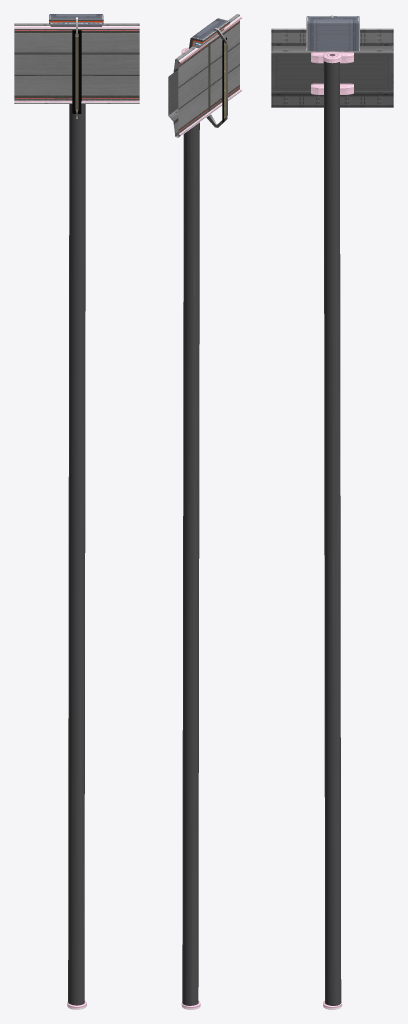
File: T34 - Magnetic.fbx
The picture shows the model from 3 angles, left to right: view 1: azimuth 90°, elevation 25°; view 2: azimuth 150°, elevation 25°; view 3: azimuth 270°, elevation 25°; orthographic projection. The views are drawn at different scales.
Visible parts, largest first — view 1: support_pylon, straight_road13, lookout, wall, light_bloom_night, magnetic_road_lines, cage, standard_bridge5; view 2: support_pylon, straight_road13, standard_bridge5, lookout, wall, cage, magnetic_road_lines; view 3: support_pylon, standard_bridge5, lookout, support_hinge_base.
Boxes of the visible parts, x1,y1,x2,y2 form: support_pylon: [68, 104, 85, 1005]; straight_road13: [14, 29, 139, 100]; lookout: [49, 14, 103, 26]; wall: [14, 26, 139, 102]; light_bloom_night: [72, 30, 81, 113]; magnetic_road_lines: [14, 52, 139, 75]; cage: [75, 17, 78, 118]; standard_bridge5: [14, 23, 139, 103]; support_pylon: [182, 122, 199, 1005]; straight_road13: [178, 20, 239, 133]; standard_bridge5: [168, 14, 239, 137]; lookout: [189, 18, 230, 48]; wall: [178, 16, 242, 136]; cage: [206, 28, 227, 127]; magnetic_road_lines: [178, 42, 239, 109]; support_pylon: [323, 61, 341, 1005]; standard_bridge5: [271, 28, 393, 107]; lookout: [306, 16, 359, 50]; support_hinge_base: [311, 83, 353, 94].
Size of the model in its own units: 2659 by 56421 by 6400.
